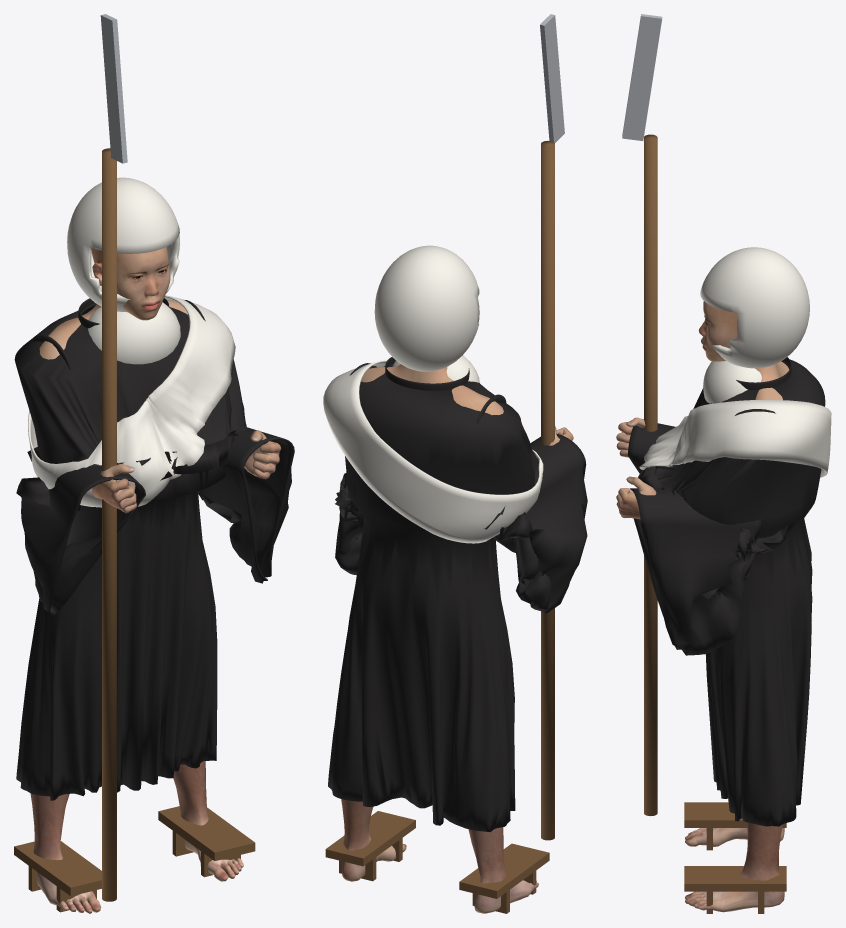
Rendered from sou_sohei.glb.
The picture shows the model from 3 angles, left to right: view 1: azimuth 30°, elevation 25°; view 2: azimuth 150°, elevation 25°; view 3: azimuth 270°, elevation 25°; orthographic projection. The views are drawn at different scales.
Visible parts, largest first — view 1: koromo, kesa, Human, naginata_e, sode.R, sode.L, katou, katou_mune, geta.L, geta.R, naginata_ha; view 2: koromo, kesa, katou, sode.R, naginata_e, Human, geta.L, geta.R, naginata_ha, sode.L, eri, katou_mune; view 3: koromo, sode.L, kesa, katou, Human, naginata_e, naginata_ha, geta.L, katou_mune, geta.R, sode.R.
Boxes of the visible parts, x1=… form: koromo: x1=14, y1=303, x2=246, y2=800; kesa: x1=28, y1=295, x2=235, y2=507; Human: x1=30, y1=247, x2=281, y2=913; naginata_e: x1=102, y1=148, x2=116, y2=901; sode.R: x1=16, y1=334, x2=145, y2=615; sode.L: x1=184, y1=300, x2=294, y2=583; katou: x1=67, y1=177, x2=179, y2=312; katou_mune: x1=88, y1=302, x2=180, y2=364; geta.L: x1=158, y1=806, x2=255, y2=860; geta.R: x1=14, y1=841, x2=101, y2=896; naginata_ha: x1=100, y1=14, x2=127, y2=163; koromo: x1=328, y1=363, x2=539, y2=831; kesa: x1=323, y1=359, x2=543, y2=543; katou: x1=374, y1=245, x2=479, y2=371; sode.R: x1=477, y1=394, x2=587, y2=613; naginata_e: x1=541, y1=141, x2=554, y2=840; Human: x1=341, y1=364, x2=573, y2=913; geta.L: x1=325, y1=811, x2=415, y2=866; geta.R: x1=459, y1=843, x2=549, y2=898; naginata_ha: x1=540, y1=14, x2=564, y2=142; sode.L: x1=335, y1=363, x2=376, y2=574; eri: x1=385, y1=357, x2=469, y2=390; katou_mune: x1=392, y1=355, x2=479, y2=382; koromo: x1=638, y1=359, x2=825, y2=826; sode.L: x1=630, y1=409, x2=788, y2=655; kesa: x1=639, y1=400, x2=831, y2=477; katou: x1=700, y1=247, x2=809, y2=368; Human: x1=616, y1=301, x2=789, y2=912; naginata_e: x1=644, y1=134, x2=657, y2=816; naginata_ha: x1=622, y1=14, x2=662, y2=140; geta.L: x1=684, y1=866, x2=786, y2=891; katou_mune: x1=703, y1=361, x2=761, y2=403; geta.R: x1=684, y1=802, x2=786, y2=827; sode.R: x1=628, y1=423, x2=675, y2=473.
Bounding box in the file's own units: 0.601 × 2.14 × 0.505.
8 materials, 4 textured.
